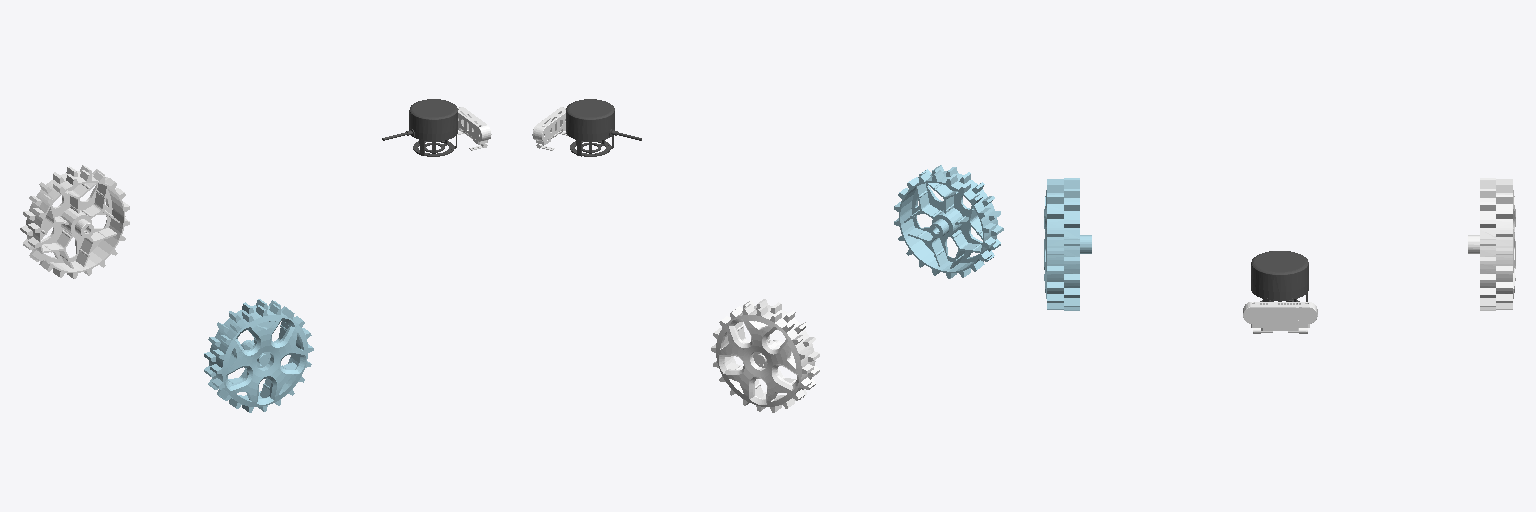
URDF robot description (top_akm_dl_robot):
<?xml version="1.0" encoding="utf-8"?>
<!-- This URDF was automatically created by SolidWorks to URDF Exporter! Originally created by [author] ([email redacted]) 
     Commit Version: 1.6.0-4-g7f85cfe  Build Version: 1.6.7995.38578
     For more information, please see http://wiki.ros.org/sw_urdf_exporter -->
<robot
  name="top_akm_dl_robot">
  <link
    name="base_link">
    <inertial>
      <origin
        xyz="-0.0238003471134728 0.00128571985735138 0.0160757245548647"
        rpy="0 0 0" />
      <mass
        value="6.75207136188236" />
      <inertia
        ixx="0.0169549202983336"
        ixy="3.29048282680571E-06"
        ixz="-1.70023676966002E-05"
        iyy="0.0559652776032738"
        iyz="-2.09450058373494E-06"
        izz="0.0691280700942522" />
    </inertial>
    <visual>
      <origin
        xyz="0 0 0"
        rpy="0 0 0" />
      <geometry>
        <mesh
          filename="package://wheeltec_robot_urdf/meshes/brushless_senior_diff_meshes/base_link.STL" />
      </geometry>
      <material
        name="">
        <color
          rgba="0.741176470588235 0.901960784313726 0.956862745098039 1" />
      </material>
    </visual>
    <collision>
      <origin
        xyz="0 0 0"
        rpy="0 0 0" />
      <geometry>
        <mesh
          filename="package://wheeltec_robot_urdf/meshes/brushless_senior_diff_meshes/base_link.STL" />
      </geometry>
    </collision>
  </link>
  <link
    name="laser_link">
    <inertial>
      <origin
        xyz="0.00196458631178753 -3.57895547442588E-06 -0.000201831632458127"
        rpy="0 0 0" />
      <mass
        value="0.0477519163736198" />
      <inertia
        ixx="3.38461999748829E-05"
        ixy="-2.19897275860165E-09"
        ixz="1.07118468728377E-06"
        iyy="3.94150415867619E-05"
        iyz="6.83977516369227E-10"
        izz="5.60787042116226E-05" />
    </inertial>
    <visual>
      <origin
        xyz="0 0 0"
        rpy="0 0 0" />
      <geometry>
        <mesh
          filename="package://wheeltec_robot_urdf/meshes/brushless_senior_diff_meshes/laser.STL" />
      </geometry>
      <material
        name="">
        <color
          rgba="0.376470588235294 0.376470588235294 0.376470588235294 1" />
      </material>
    </visual>
    <collision>
      <origin
        xyz="0 0 0"
        rpy="0 0 0" />
      <geometry>
        <mesh
          filename="package://wheeltec_robot_urdf/meshes/brushless_senior_diff_meshes/laser.STL" />
      </geometry>
    </collision>
  </link>
  <joint
    name="laser_joint"
    type="fixed">
    <origin
      xyz="0.250331230129238 -0.00181889859020024 0.150403228709131"
      rpy="0 0 -3.14159265358979" />
    <parent
      link="base_link" />
    <child
      link="laser_link" />
    <axis
      xyz="0 0 0" />
  </joint>
  <link
    name="camera_link">
    <inertial>
      <origin
        xyz="-4.48126899810219E-07 9.81729505467044E-08 1.52542029452363E-07"
        rpy="0 0 0" />
      <mass
        value="0.0559842483843317" />
      <inertia
        ixx="0.00013081094926451"
        ixy="1.20255533340429E-07"
        ixz="1.62335431472963E-06"
        iyy="1.91148626345856E-05"
        iyz="-2.8001893909324E-08"
        izz="0.000131387458751061" />
    </inertial>
    <visual>
      <origin
        xyz="0 0 0"
        rpy="0 0 0" />
      <geometry>
        <mesh
          filename="package://wheeltec_robot_urdf/meshes/brushless_senior_diff_meshes/camera_link.STL" />
      </geometry>
      <material
        name="">
        <color
          rgba="1 1 1 1" />
      </material>
    </visual>
    <collision>
      <origin
        xyz="0 0 0"
        rpy="0 0 0" />
      <geometry>
        <mesh
          filename="package://wheeltec_robot_urdf/meshes/brushless_senior_diff_meshes/camera_link.STL" />
      </geometry>
    </collision>
  </link>
  <joint
    name="camera_joint"
    type="fixed">
    <origin
      xyz="0.320392 -0.00164099999999889 0.132083"
      rpy="0 0 0" />
    <parent
      link="base_link" />
    <child
      link="camera_link" />
    <axis
      xyz="0 0 0" />
  </joint>
  <link
    name="controller_link">
    <inertial>
      <origin
        xyz="-0.0200133932690012 0.0406197869640415 0.00856001464881906"
        rpy="0 0 0" />
      <mass
        value="0.00107921954114678" />
      <inertia
        ixx="2.26830021861791E-07"
        ixy="3.94092662515188E-09"
        ixz="-5.23015112125918E-10"
        iyy="1.16330109995663E-08"
        iyz="3.69212982720519E-10"
        izz="2.25657044103292E-07" />
    </inertial>
    <visual>
      <origin
        xyz="0 0 0"
        rpy="0 0 0" />
      <geometry>
        <mesh
          filename="package://wheeltec_robot_urdf/meshes/brushless_senior_diff_meshes/controller_link.STL" />
      </geometry>
      <material
        name="">
        <color
          rgba="0.741176470588235 0.901960784313726 0.956862745098039 1" />
      </material>
    </visual>
    <collision>
      <origin
        xyz="0 0 0"
        rpy="0 0 0" />
      <geometry>
        <mesh
          filename="package://wheeltec_robot_urdf/meshes/brushless_senior_diff_meshes/controller_link.STL" />
      </geometry>
    </collision>
  </link>
  <joint
    name="controller_joint"
    type="fixed">
    <origin
      xyz="0.131950811521908 -0.138261924308213 0.0323790449676884"
      rpy="0 0 0" />
    <parent
      link="base_link" />
    <child
      link="controller_link" />
    <axis
      xyz="0 0 0" />
  </joint>
  <link
    name="lb_wheel_link">
    <inertial>
      <origin
        xyz="-1.75769444965557E-06 -0.000257519340855453 -3.10655554058847E-07"
        rpy="0 0 0" />
      <mass
        value="1.10203492510729" />
      <inertia
        ixx="0.00601385053524276"
        ixy="-1.3518714603739E-08"
        ixz="-1.38526312016516E-09"
        iyy="0.0106089480267606"
        iyz="2.9600700216368E-05"
        izz="0.006014328007297" />
    </inertial>
    <visual>
      <origin
        xyz="0 0 0"
        rpy="0 0 0" />
      <geometry>
        <mesh
          filename="package://wheeltec_robot_urdf/meshes/brushless_senior_diff_meshes/lb_wheel_link.STL" />
      </geometry>
      <material
        name="">
        <color
          rgba="1 1 1 1" />
      </material>
    </visual>
    <collision>
      <origin
        xyz="0 0 0"
        rpy="0 0 0" />
      <geometry>
        <mesh
          filename="package://wheeltec_robot_urdf/meshes/brushless_senior_diff_meshes/lb_wheel_link.STL" />
      </geometry>
    </collision>
  </link>
  <joint
    name="lb_wheel_joint"
    type="continuous">
    <origin
      xyz="-0.245799000000001 0.293459999999999 -0.0273859999999999"
      rpy="0 0 0" />
    <parent
      link="base_link" />
    <child
      link="lb_wheel_link" />
    <axis
      xyz="0 -0.999979277714928 -0.00643771238334377" />
  </joint>
  <link
    name="rb_wheel_link">
    <inertial>
      <origin
        xyz="1.45125851497285E-06 0.000257422203050472 -2.9000150780778E-07"
        rpy="0 0 0" />
      <mass
        value="1.10203492512825" />
      <inertia
        ixx="0.00601385054971558"
        ixy="-1.32836433108949E-08"
        ixz="-2.30876152925899E-09"
        iyy="0.0106089480246928"
        iyz="-2.96008728377468E-05"
        izz="0.00601432799521755" />
    </inertial>
    <visual>
      <origin
        xyz="0 0 0"
        rpy="0 0 0" />
      <geometry>
        <mesh
          filename="package://wheeltec_robot_urdf/meshes/brushless_senior_diff_meshes/rb_wheel_link.STL" />
      </geometry>
      <material
        name="">
        <color
          rgba="0.741176470588235 0.901960784313726 0.956862745098039 1" />
      </material>
    </visual>
    <collision>
      <origin
        xyz="0 0 0"
        rpy="0 0 0" />
      <geometry>
        <mesh
          filename="package://wheeltec_robot_urdf/meshes/brushless_senior_diff_meshes/rb_wheel_link.STL" />
      </geometry>
    </collision>
  </link>
  <joint
    name="rb_wheel_joint"
    type="continuous">
    <origin
      xyz="-0.245798999999999 -0.297097000000001 -0.0273859999999999"
      rpy="0 0 0" />
    <parent
      link="base_link" />
    <child
      link="rb_wheel_link" />
    <axis
      xyz="0 0.999979277714928 -0.00643771238334272" />
  </joint>
  <link
    name="left1_link">
    <inertial>
      <origin
        xyz="-3.49729397282617E-05 0.00455783447139784 -0.0398411235499935"
        rpy="0 0 0" />
      <mass
        value="0.0983543233974691" />
      <inertia
        ixx="5.40795468052016E-05"
        ixy="-4.00648229519885E-08"
        ixz="1.07139831609807E-09"
        iyy="5.55771578571289E-05"
        iyz="2.60519111733189E-08"
        izz="4.42025846078523E-05" />
    </inertial>
    <visual>
      <origin
        xyz="0 0 0"
        rpy="0 0 0" />
      <geometry>
        <mesh
          filename="package://wheeltec_robot_urdf/meshes/brushless_senior_diff_meshes/left1_link.STL" />
      </geometry>
      <material
        name="">
        <color
          rgba="0.741176470588235 0.901960784313726 0.956862745098039 1" />
      </material>
    </visual>
    <collision>
      <origin
        xyz="0 0 0"
        rpy="0 0 0" />
      <geometry>
        <mesh
          filename="package://wheeltec_robot_urdf/meshes/brushless_senior_diff_meshes/left1_link.STL" />
      </geometry>
    </collision>
  </link>
  <joint
    name="left1_joint"
    type="revolute">
    <origin
      xyz="0.280787211521842 0.218842319206627 0.011489799879887"
      rpy="0 0 0" />
    <parent
      link="base_link" />
    <child
      link="left1_link" />
    <axis
      xyz="0 0.00289827494914555 -0.99999579999234" />
    <limit
      lower="-0.52"
      upper="0.52"
      effort="0"
      velocity="0" />
  </joint>
  <link
    name="lf_wheel_link">
    <inertial>
      <origin
        xyz="3.83513317214756E-07 -0.000257592426947534 8.29533766011359E-07"
        rpy="0 0 0" />
      <mass
        value="1.10203492555607" />
      <inertia
        ixx="0.00601430737069091"
        ixy="-4.58157485508261E-05"
        ixz="-1.33270195348884E-07"
        iyy="0.0106086431730695"
        iyz="1.33362441730678E-05"
        izz="0.00601417603062858" />
    </inertial>
    <visual>
      <origin
        xyz="0 0 0"
        rpy="0 0 0" />
      <geometry>
        <mesh
          filename="package://wheeltec_robot_urdf/meshes/brushless_senior_diff_meshes/lf_wheel_link.STL" />
      </geometry>
      <material
        name="">
        <color
          rgba="1 1 1 1" />
      </material>
    </visual>
    <collision>
      <origin
        xyz="0 0 0"
        rpy="0 0 0" />
      <geometry>
        <mesh
          filename="package://wheeltec_robot_urdf/meshes/brushless_senior_diff_meshes/lf_wheel_link.STL" />
      </geometry>
    </collision>
  </link>
  <joint
    name="lf_wheel_joint"
    type="continuous">
    <origin
      xyz="-0.000739211521843114 0.0743246807933741 -0.0372917998798868"
      rpy="0 0 0" />
    <parent
      link="left1_link" />
    <child
      link="lf_wheel_link" />
    <axis
      xyz="0.00996776656228561 -0.999946120781851 -0.00289813096453226" />
  </joint>
  <link
    name="right1_link">
    <inertial>
      <origin
        xyz="5.02025306590714E-05 -0.00455766829262305 -0.0398361618320557"
        rpy="0 0 0" />
      <mass
        value="0.0983543230625978" />
      <inertia
        ixx="5.40763752938243E-05"
        ixy="1.40260350603122E-09"
        ixz="1.92537452696553E-09"
        iyy="5.55780616132504E-05"
        iyz="-1.26228840806946E-08"
        izz="4.42048520374355E-05" />
    </inertial>
    <visual>
      <origin
        xyz="0 0 0"
        rpy="0 0 0" />
      <geometry>
        <mesh
          filename="package://wheeltec_robot_urdf/meshes/brushless_senior_diff_meshes/right1_link.STL" />
      </geometry>
      <material
        name="">
        <color
          rgba="0.741176470588235 0.901960784313726 0.956862745098039 1" />
      </material>
    </visual>
    <collision>
      <origin
        xyz="0 0 0"
        rpy="0 0 0" />
      <geometry>
        <mesh
          filename="package://wheeltec_robot_urdf/meshes/brushless_senior_diff_meshes/right1_link.STL" />
      </geometry>
    </collision>
  </link>
  <joint
    name="right1_joint"
    type="revolute">
    <origin
      xyz="0.280787211521861 -0.222479416477029 0.0114897998799043"
      rpy="0 0 0" />
    <parent
      link="base_link" />
    <child
      link="right1_link" />
    <axis
      xyz="0 0.00289827494913519 0.99999579999234" />
    <limit
      lower="-0.52"
      upper="0.52"
      effort="0"
      velocity="0" />
  </joint>
  <link
    name="rf_wheel_link">
    <inertial>
      <origin
        xyz="-4.70860891618741E-06 0.000257490243467717 -1.98298299791677E-06"
        rpy="0 0 0" />
      <mass
        value="1.1020349256489" />
      <inertia
        ixx="0.00601432478814424"
        ixy="-4.56533992495966E-05"
        ixz="2.06277286877104E-07"
        iyy="0.0106086466139935"
        iyz="-1.32997937895477E-05"
        izz="0.00601415517906128" />
    </inertial>
    <visual>
      <origin
        xyz="0 0 0"
        rpy="0 0 0" />
      <geometry>
        <mesh
          filename="package://wheeltec_robot_urdf/meshes/brushless_senior_diff_meshes/rf_wheel_link.STL" />
      </geometry>
      <material
        name="">
        <color
          rgba="0.741176470588235 0.901960784313726 0.956862745098039 1" />
      </material>
    </visual>
    <collision>
      <origin
        xyz="0 0 0"
        rpy="0 0 0" />
      <geometry>
        <mesh
          filename="package://wheeltec_robot_urdf/meshes/brushless_senior_diff_meshes/rf_wheel_link.STL" />
      </geometry>
    </collision>
  </link>
  <joint
    name="rf_wheel_joint"
    type="continuous">
    <origin
      xyz="0.000739788478140185 -0.0743245835229699 -0.0372777998799042"
      rpy="0 0 0" />
    <parent
      link="right1_link" />
    <child
      link="rf_wheel_link" />
    <axis
      xyz="-0.00993944153341267 0.999946402730756 -0.00289813178167515" />
  </joint>
</robot>

--- Facts derived from the render (not from the file) ---
The picture shows the robot from 3 angles, left to right: view 1: azimuth 30°, elevation 25°; view 2: azimuth 150°, elevation 25°; view 3: azimuth 270°, elevation 25°; orthographic projection.
Model top_akm_dl_robot with 10 links and 9 joints (2 revolute, 4 continuous, 3 fixed), rooted at base_link, posed every joint at zero.
Visible links, largest first — view 1: rb_wheel_link, lb_wheel_link, laser_link, camera_link; view 2: lb_wheel_link, rb_wheel_link, laser_link, camera_link; view 3: rb_wheel_link, lb_wheel_link, laser_link, camera_link.
Link boxes in pixels (x1=…): rb_wheel_link: x1=204, y1=299, x2=313, y2=412; lb_wheel_link: x1=20, y1=165, x2=129, y2=278; laser_link: x1=382, y1=99, x2=457, y2=156; camera_link: x1=457, y1=107, x2=491, y2=150; lb_wheel_link: x1=711, y1=299, x2=819, y2=412; rb_wheel_link: x1=894, y1=165, x2=1003, y2=278; laser_link: x1=566, y1=99, x2=641, y2=156; camera_link: x1=532, y1=107, x2=567, y2=150; rb_wheel_link: x1=1044, y1=178, x2=1091, y2=310; lb_wheel_link: x1=1468, y1=178, x2=1515, y2=310; laser_link: x1=1251, y1=251, x2=1308, y2=301; camera_link: x1=1243, y1=302, x2=1317, y2=333.
Bounding box of the posed robot: 0.6648 × 0.641 × 0.2957 m (x, y, z).
Meshes: 10 distinct files referenced, 4 mesh visuals loaded (4 binary STL); not drawn: 6 (reference not matched to a file when rendering).